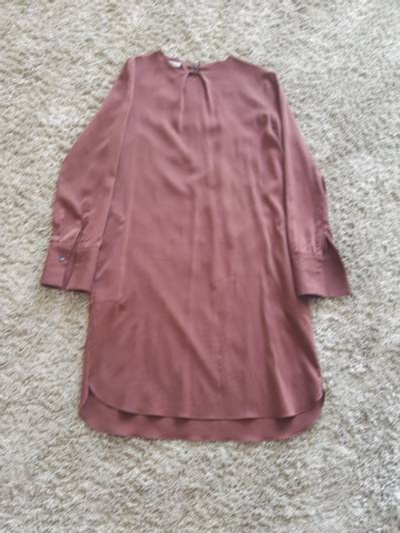Dress: (28, 26, 384, 453)
